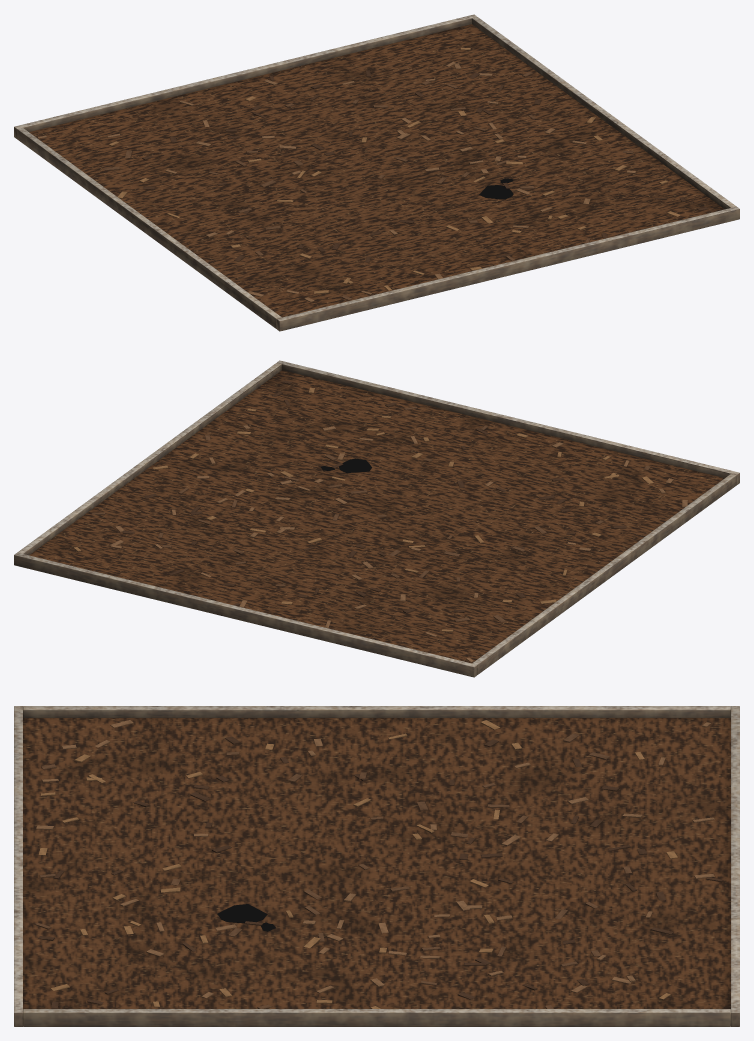
Rendered from mulch_tile.fbx.
3 renders of one model, top to bottom at view 1: azimuth 30°, elevation 25°; view 2: azimuth 150°, elevation 25°; view 3: azimuth 270°, elevation 25°, orthographic. The views are drawn at different scales.
Visible parts, largest first — view 1: Body; view 2: Body; view 3: Body.
Part boxes in pixels (box(x1,y1,x2,y2)): Body: box(14, 14, 739, 331); Body: box(14, 360, 739, 677); Body: box(14, 706, 739, 1026).
Bounding box in the file's own units: 32 × 0.7 × 32.
1 material, 1 textured.
